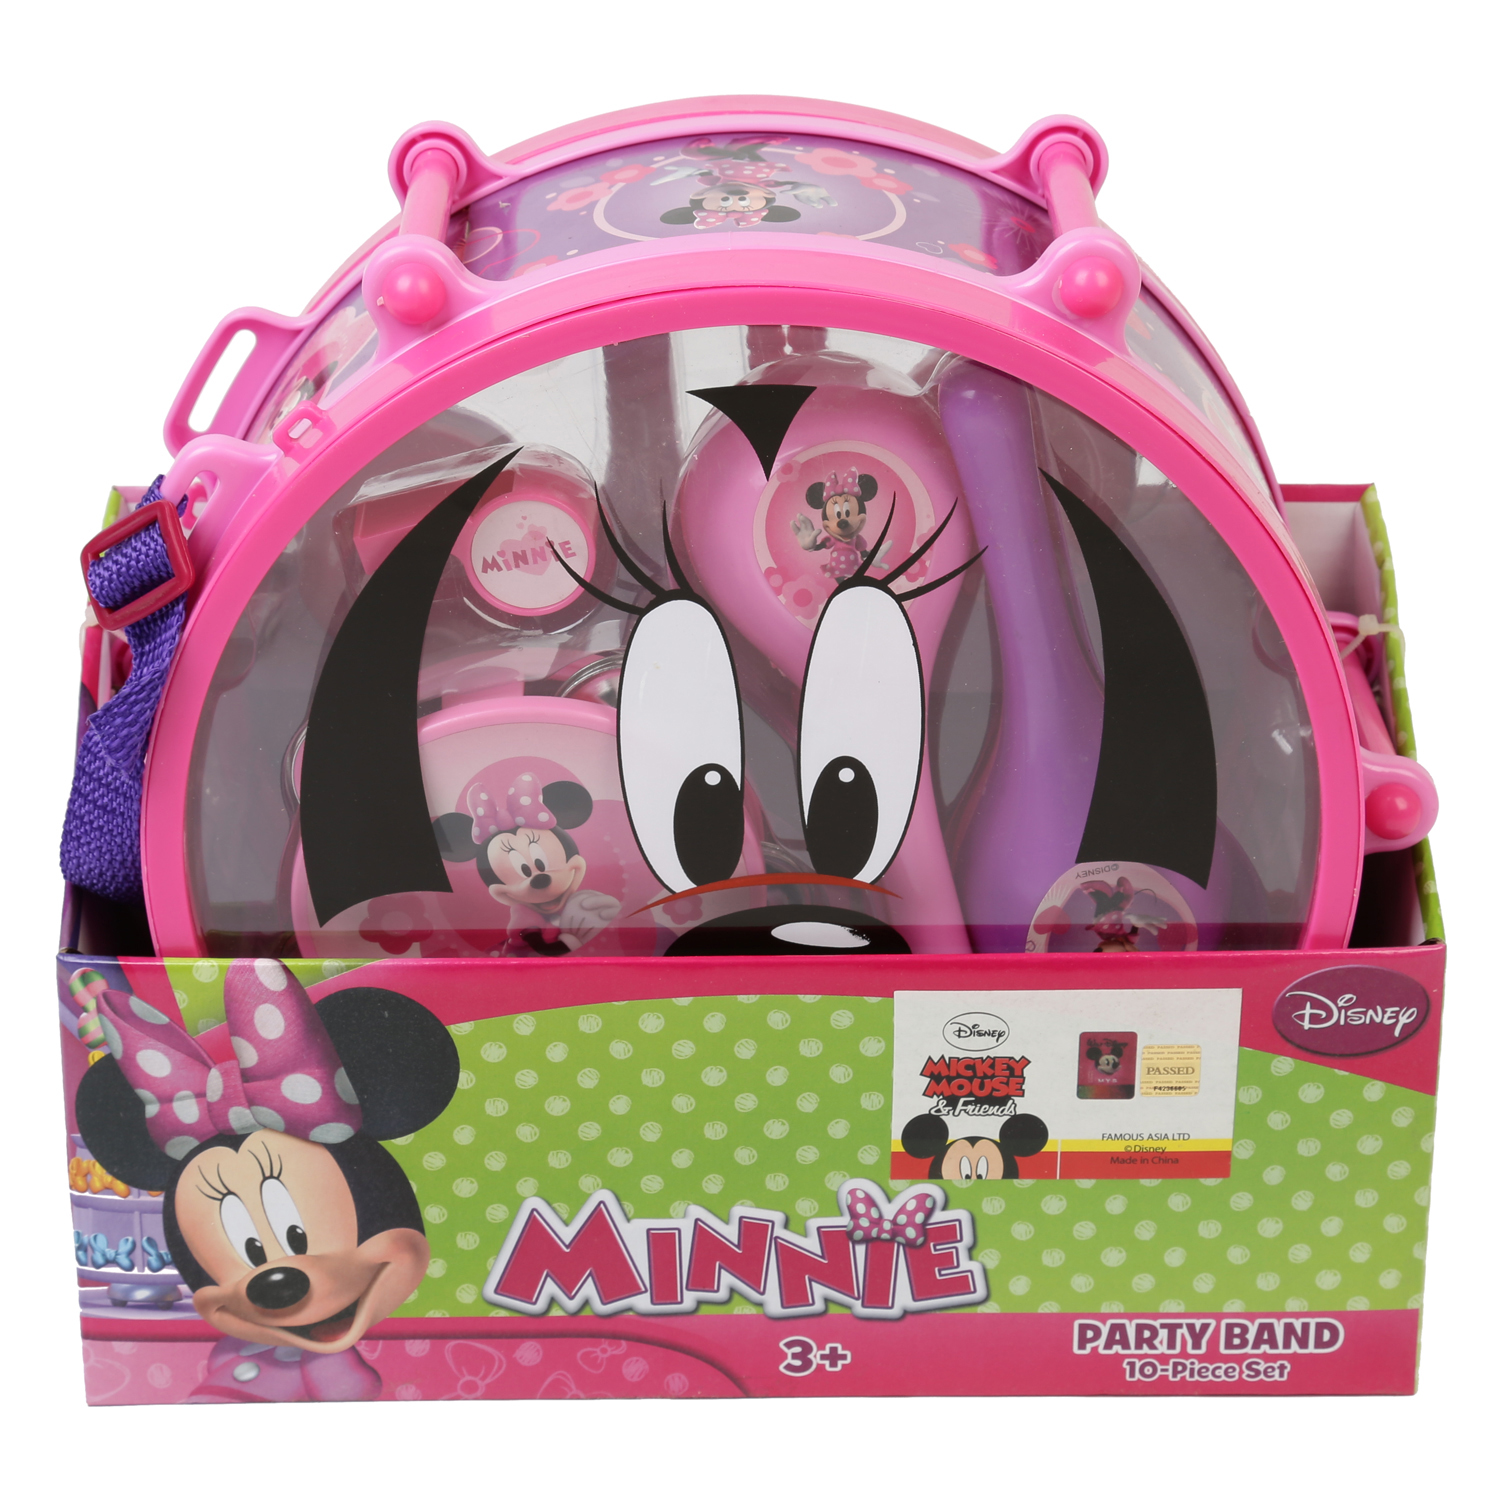Disney: (1262, 956, 1437, 1065)
